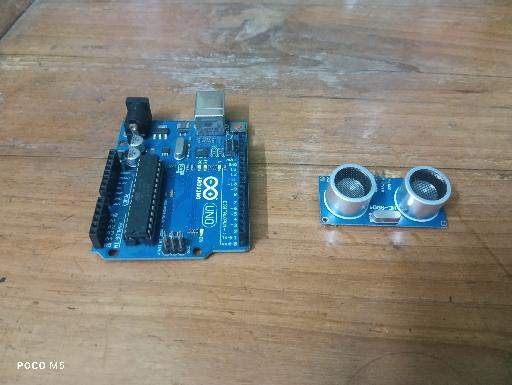Arduino: (88, 92, 252, 262)
sensor: (317, 164, 452, 231)
